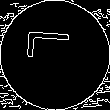L_E: (29, 38, 81, 72)
